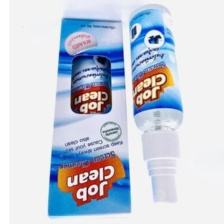book: (44, 13, 135, 221)
cleaning_solution: (126, 1, 186, 206)
